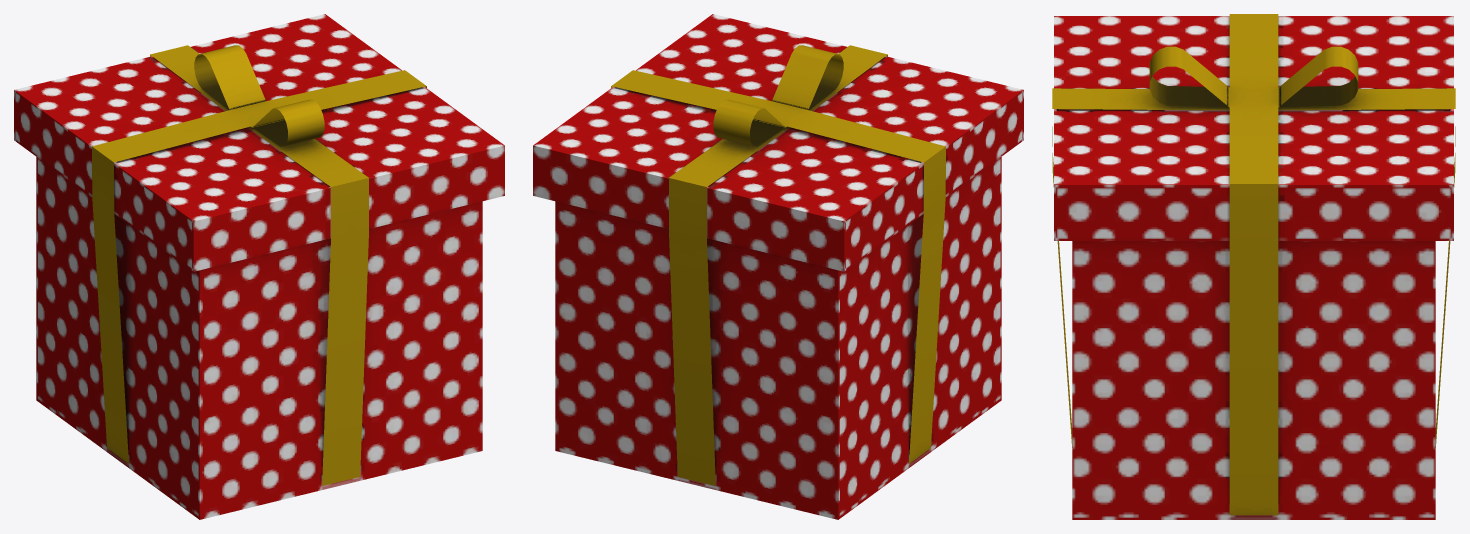
File: winter_Pumpkin.DAE
3 views of the same model, side by side, from view 1: azimuth 30°, elevation 25°; view 2: azimuth 150°, elevation 25°; view 3: azimuth 270°, elevation 25° (orthographic). The views are drawn at different scales.
Parts seen in each view (by area): view 1: present_1x1x1_a10; view 2: present_1x1x1_a10; view 3: present_1x1x1_a10.
Part boxes in pixels (<box>): present_1x1x1_a10: <box>14,14,504,519</box>; present_1x1x1_a10: <box>533,14,1023,519</box>; present_1x1x1_a10: <box>1052,14,1455,519</box>.
Bounding box in the file's own units: 0.553 × 0.5546 × 0.5866.
Materials: 1 (1 with a texture image).
